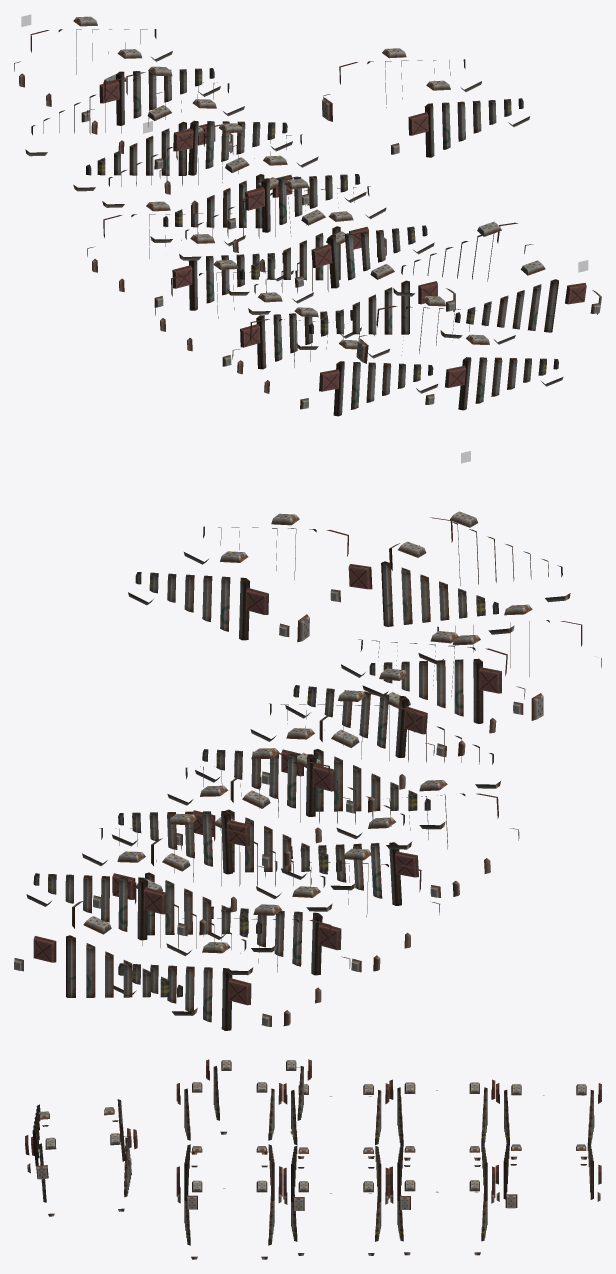
The model's file is prop_static_tan_container_01_07.glb.
The picture shows the model from 3 angles, top to bottom: view 1: azimuth 30°, elevation 25°; view 2: azimuth 150°, elevation 25°; view 3: azimuth 270°, elevation 25°; orthographic projection. The views are drawn at different scales.
Visible parts, largest first — view 1: tan_container_01_07_LOD0; view 2: tan_container_01_07_LOD0; view 3: tan_container_01_07_LOD0.
Boxes of the visible parts, x1,y1,x2,y2 form: tan_container_01_07_LOD0: (14, 16, 601, 416); tan_container_01_07_LOD0: (14, 511, 601, 1030); tan_container_01_07_LOD0: (25, 1059, 601, 1259).
Size of what is drawn, in the model's own units: 5.04 by 5.22 by 13.14.
3 materials, 1 textured.
